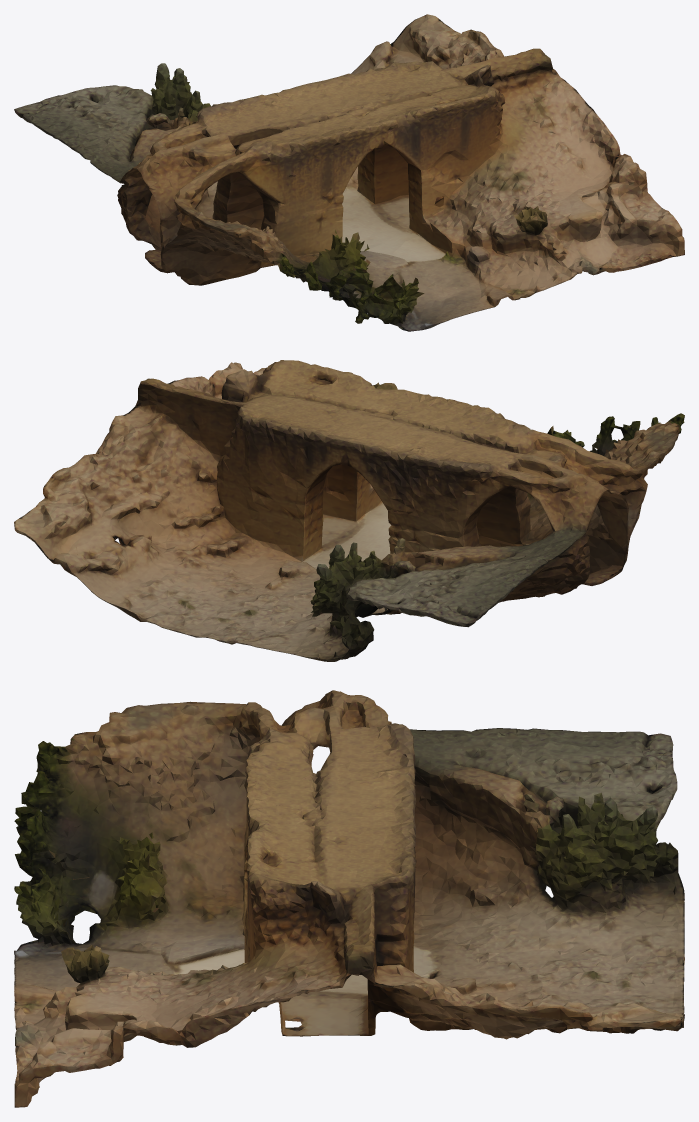
The picture shows the model from 3 angles, top to bottom: view 1: azimuth 30°, elevation 25°; view 2: azimuth 150°, elevation 25°; view 3: azimuth 270°, elevation 25°; orthographic projection. The views are drawn at different scales.
Parts seen in each view (by area): view 1: world; view 2: world; view 3: world.
Boxes of the visible parts, <box> form: world: <box>14,14,684,331</box>; world: <box>14,360,684,661</box>; world: <box>14,690,684,1107</box>.
Size of the model in its own units: 0.9875 by 0.3047 by 1.
Materials: 1 (1 with a texture image).
